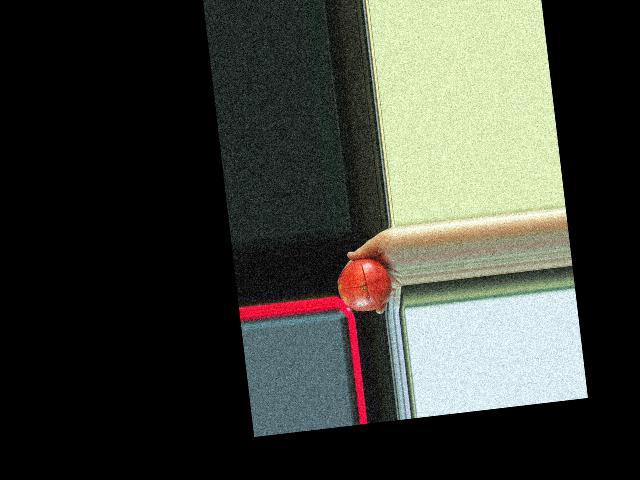tomato: (335, 255, 394, 314)
